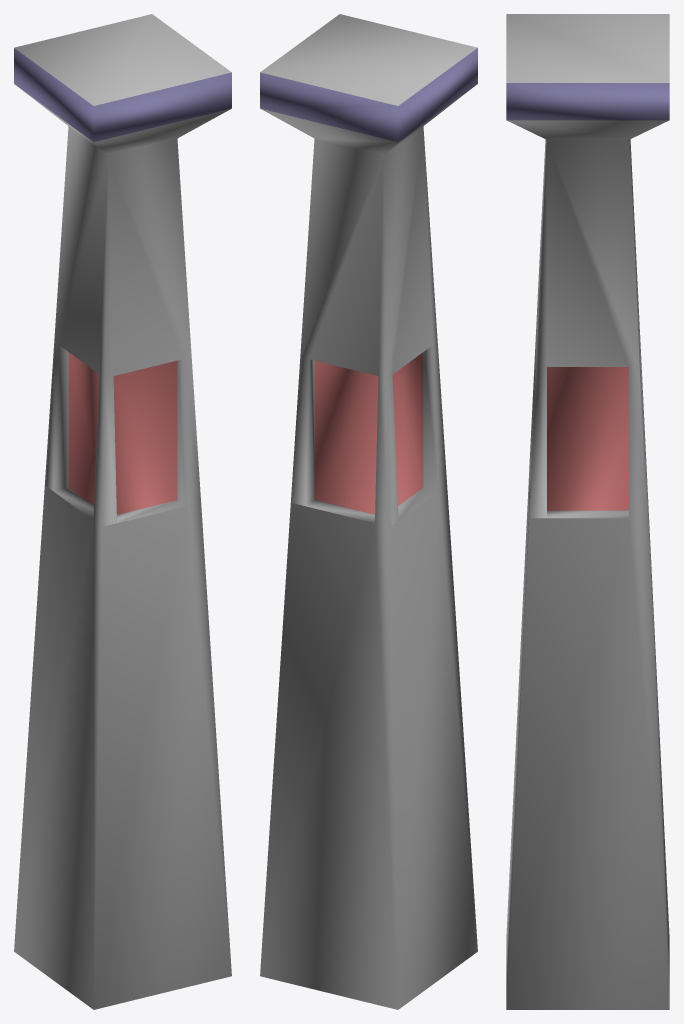
The model's file is iobservation.glb.
3 renders of one model, left to right at view 1: azimuth 30°, elevation 25°; view 2: azimuth 150°, elevation 25°; view 3: azimuth 270°, elevation 25°, orthographic. The views are drawn at different scales.
Parts seen in each view (by area): view 1: iobservation; view 2: iobservation; view 3: iobservation.
Part boxes in pixels (box(x1,y1,x2,y2)): iobservation: box(14, 14, 231, 1009); iobservation: box(260, 14, 477, 1009); iobservation: box(506, 14, 669, 1009).
Size of the model in its own units: 4 by 25 by 4.
